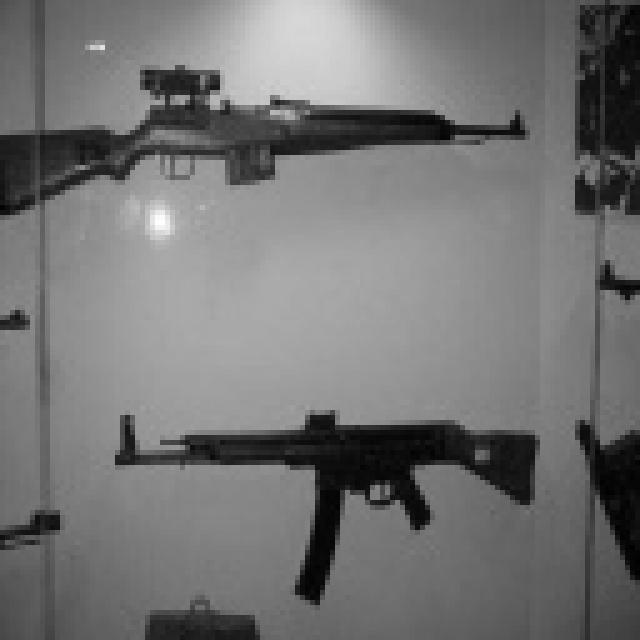Rifle: (55, 349, 571, 640), (0, 0, 545, 270)
